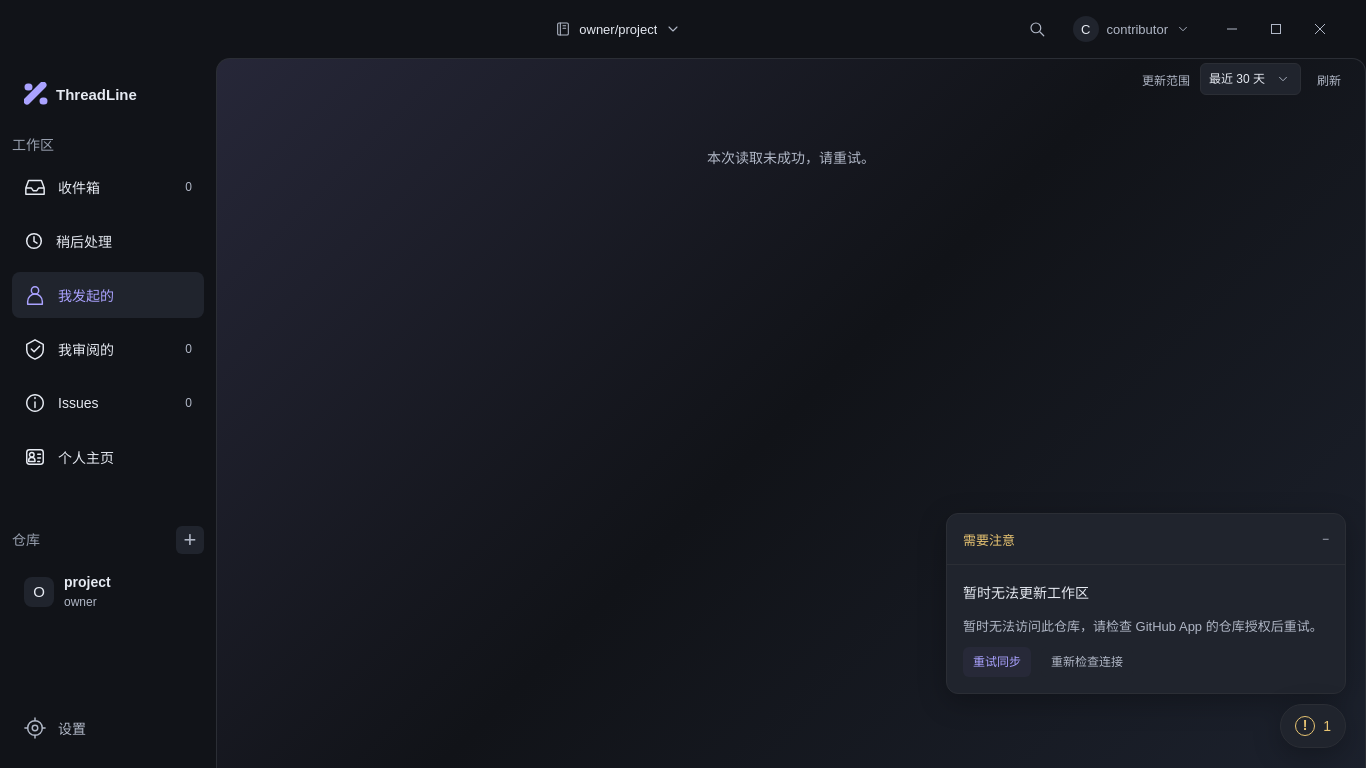
Test: workspace interactions › distinguishes failed synchronization from an empty list and retries real requests
Click the button "重试同步". click: (997, 662)
box: [963,647,1031,677]
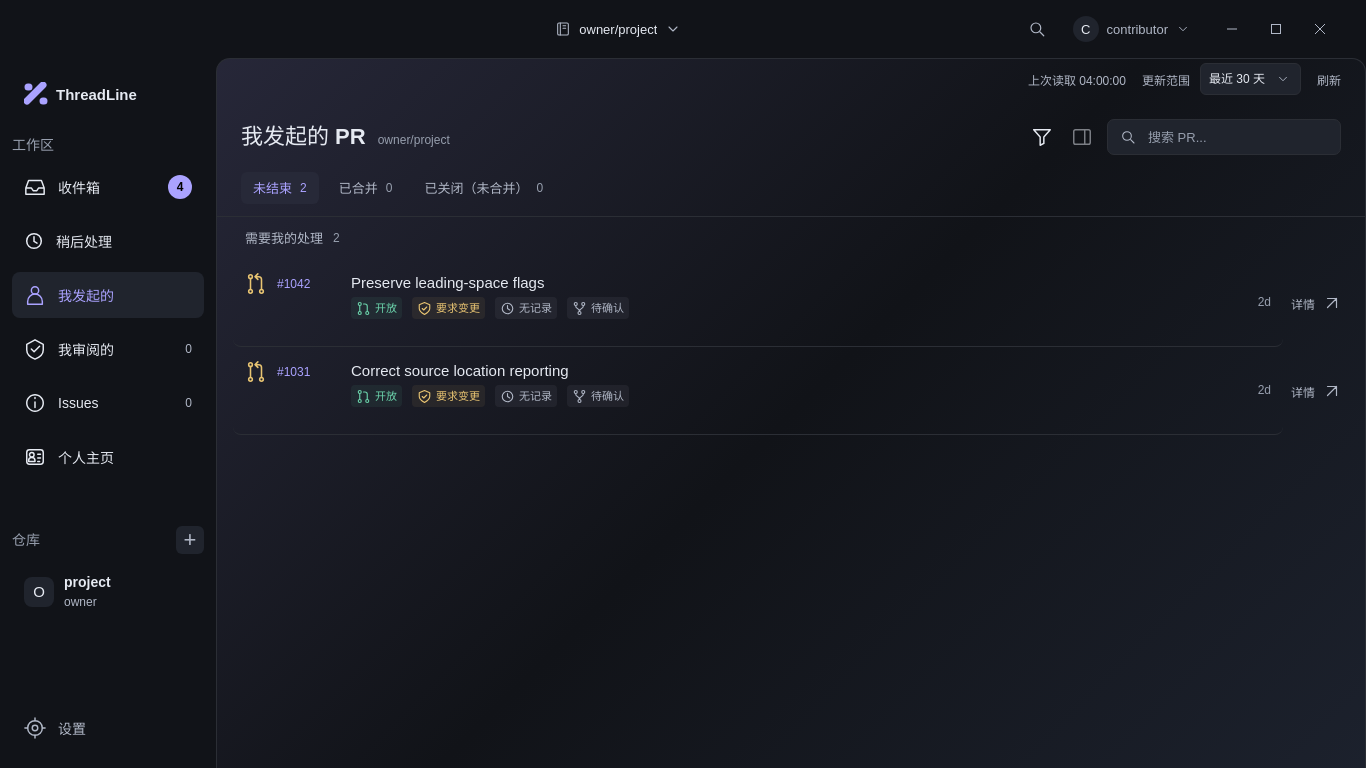
Check: the field labelled "搜索 PR" is shown, box [1146,128,1328,146]
Check: the message "本次读取未成功，请重试。" is gone
